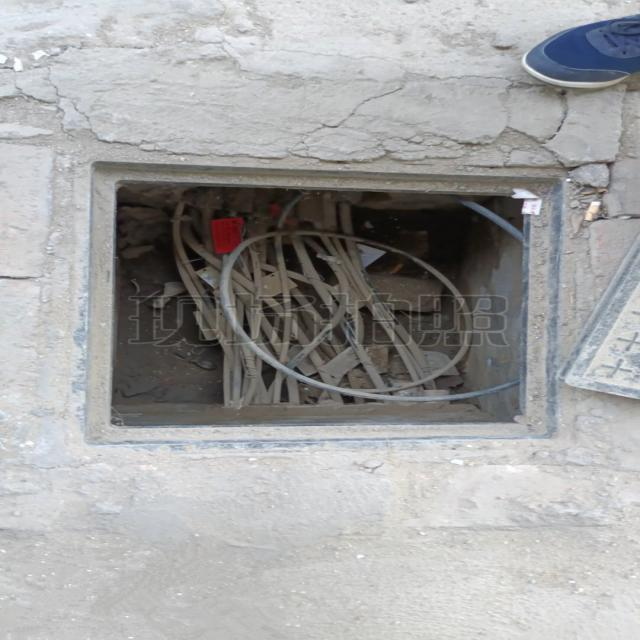Uncovered: (66, 154, 572, 456)
